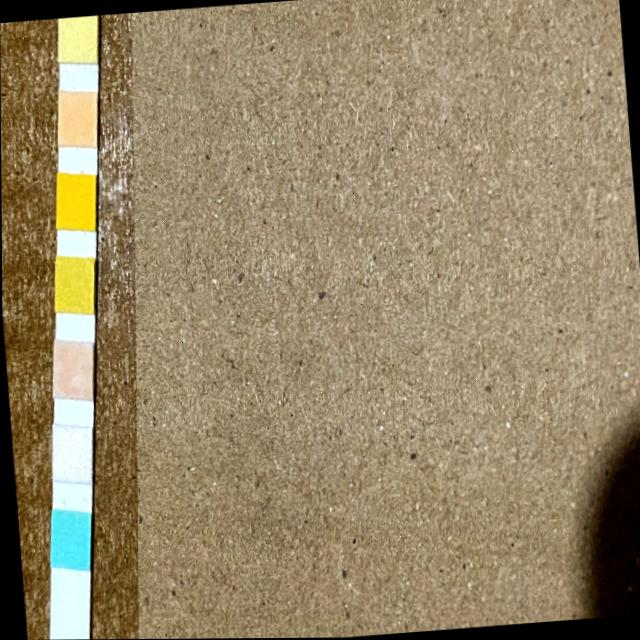Bilirubin: (51, 425, 89, 480)
Blood: (56, 173, 94, 228)
Glucose: (50, 510, 88, 567)
Ketone: (51, 340, 93, 396)
Protein: (58, 15, 96, 62)
SpGravity: (54, 257, 92, 312)
pH: (57, 90, 97, 145)
